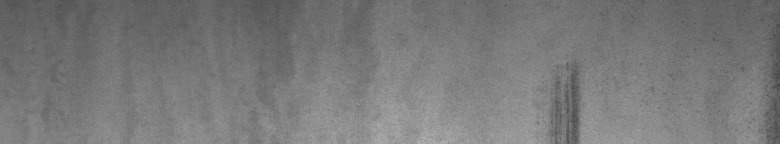ka: (545, 60, 586, 136)
